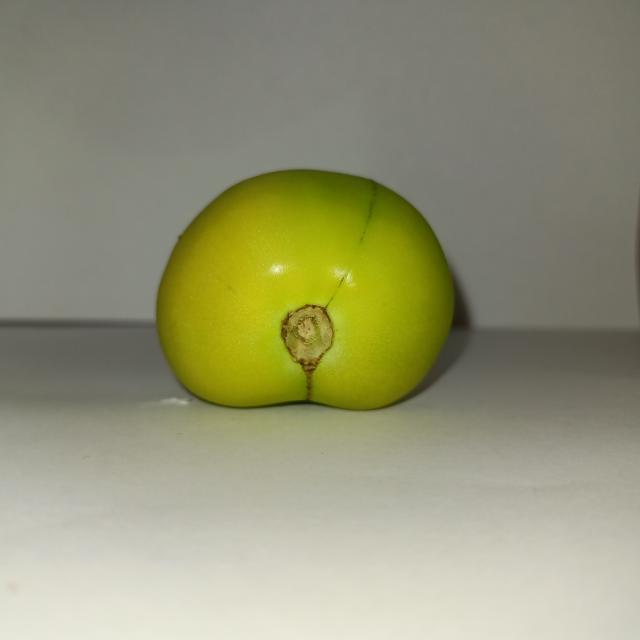Red: (154, 166, 456, 411)
